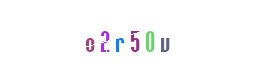0: (110, 0, 190, 80)
2: (75, 0, 155, 80)
5: (89, 0, 169, 80)
O: (64, 0, 144, 80)
R: (78, 0, 158, 80)
V: (124, 0, 204, 80)
